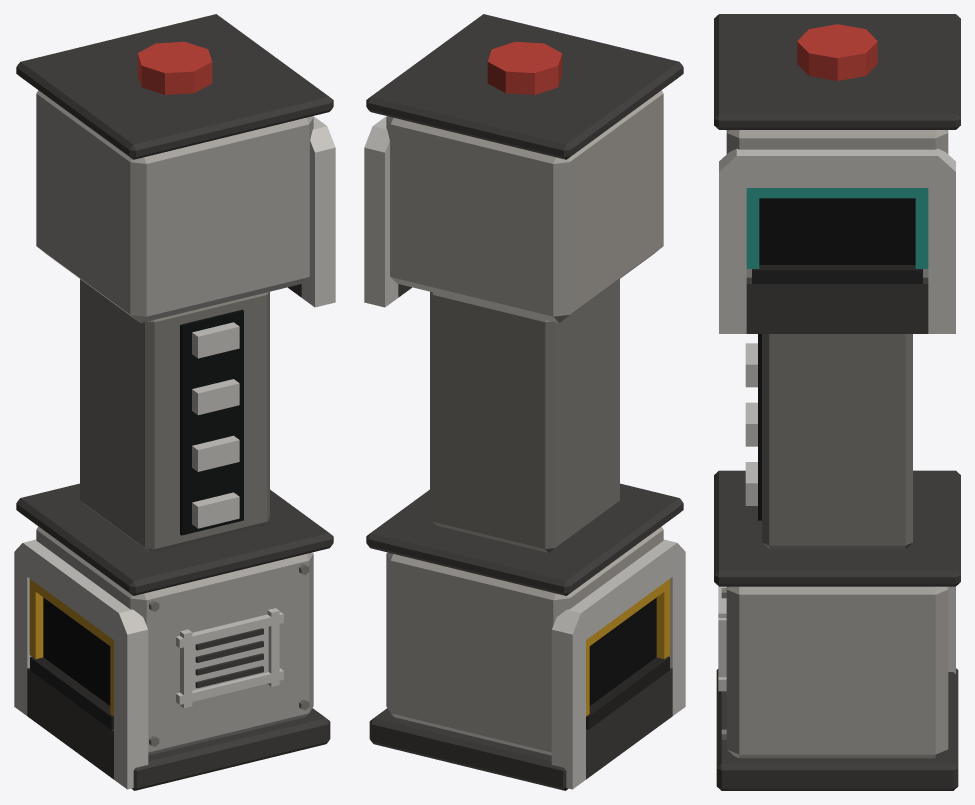
Rendered from lift.fbx.
3 views of the same model, side by side, from view 1: azimuth 30°, elevation 25°; view 2: azimuth 150°, elevation 25°; view 3: azimuth 270°, elevation 25° (orthographic). The views are drawn at different scales.
Parts seen in each view (by area): view 1: lift; view 2: lift; view 3: lift.
Boxes of the visible parts, x1,y1,x2,y2 form: lift: (14, 14, 335, 790); lift: (364, 14, 685, 790); lift: (714, 14, 960, 790).
Bounding box in the file's own units: 3 × 9.21 × 2.94.
